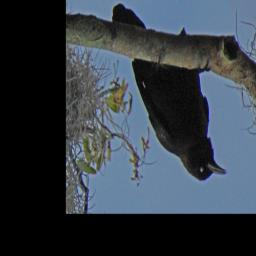Crow: (111, 2, 227, 180)
